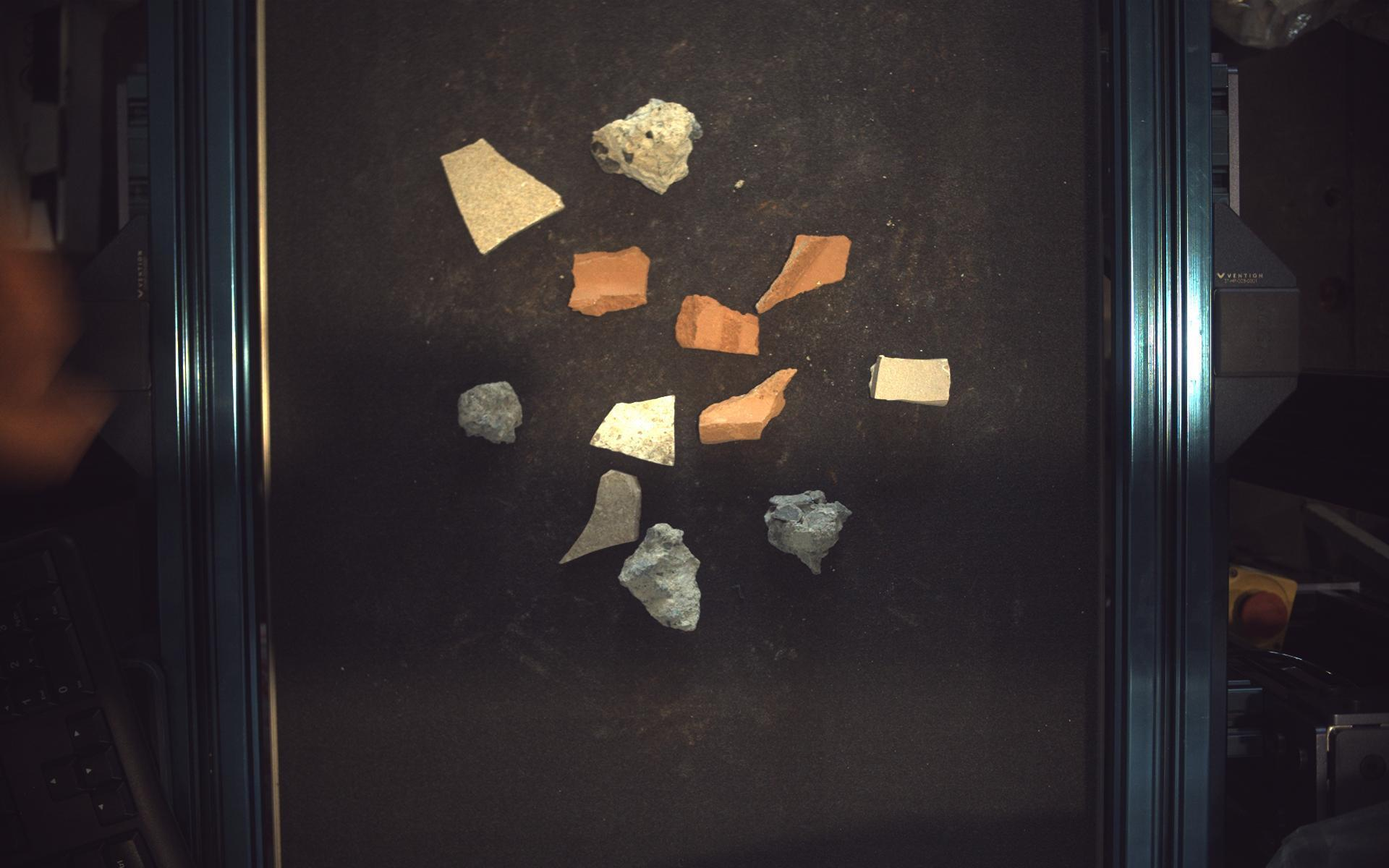brick: (700, 368, 799, 444), (757, 234, 852, 313), (570, 246, 651, 315), (676, 294, 760, 355)
concrete: (592, 97, 704, 193), (620, 524, 702, 632), (765, 490, 853, 575), (458, 381, 523, 443)
tile: (441, 137, 564, 253), (560, 470, 642, 564), (591, 395, 676, 467), (873, 354, 953, 406)
